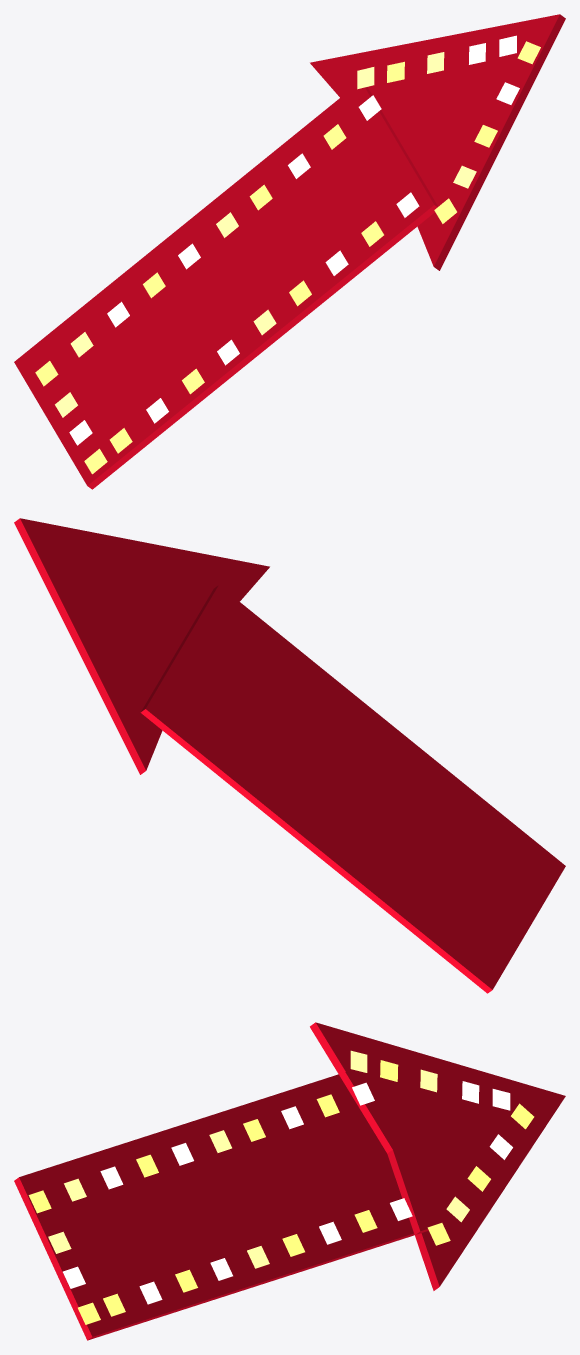
Rendered from arrow.glb.
The picture shows the model from 3 angles, top to bottom: view 1: azimuth 30°, elevation 25°; view 2: azimuth 150°, elevation 25°; view 3: azimuth 330°, elevation 25°; orthographic projection.
Parts seen in each view (by area): view 1: Cube.012; view 2: Cube.012; view 3: Cube.012.
Boxes of the visible parts, x1=… form: Cube.012: x1=14, y1=14, x2=565, y2=489; Cube.012: x1=14, y1=518, x2=565, y2=993; Cube.012: x1=14, y1=1022, x2=565, y2=1340.
Bounding box in the file's own units: 4.23 × 2.73 × 0.0854.
